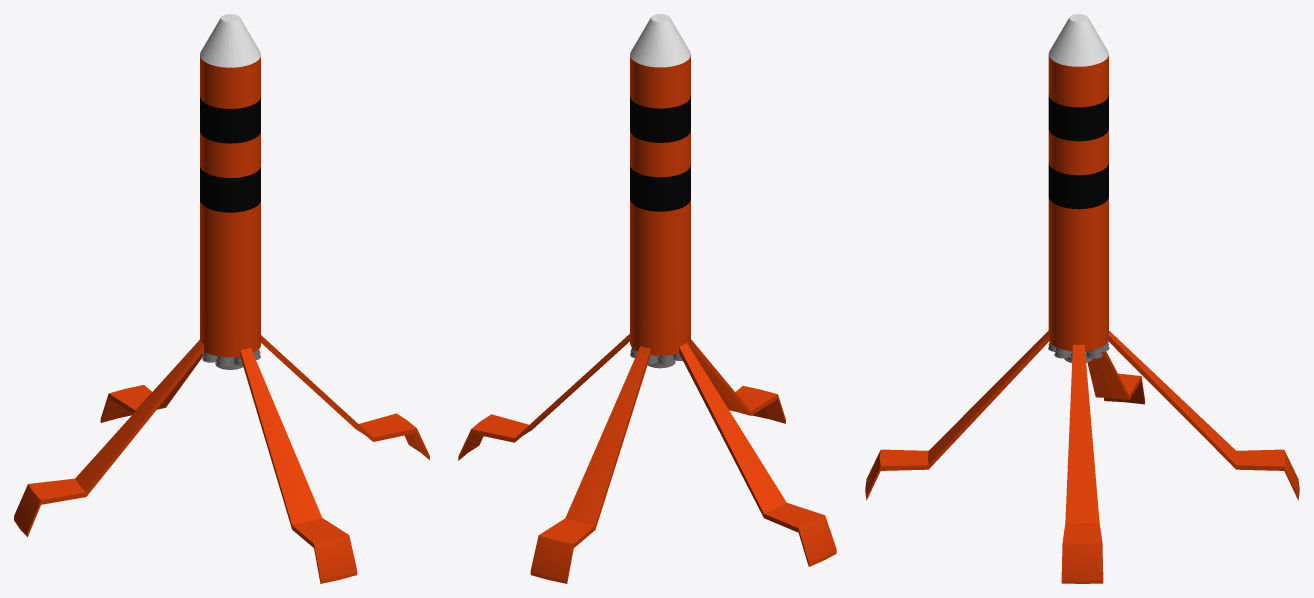
File: rocket5.fbx
3 views of the same model, side by side, from view 1: azimuth 30°, elevation 25°; view 2: azimuth 150°, elevation 25°; view 3: azimuth 270°, elevation 25° (orthographic).
Parts seen in each view (by area): view 1: Circle, Circle.010, Circle.001; view 2: Circle, Circle.010, Circle.001; view 3: Circle, Circle.010, Circle.001.
Part boxes in pixels (<box>): Circle: <box>14,56,429,583</box>; Circle.010: <box>75,98,322,525</box>; Circle.001: <box>200,14,260,67</box>; Circle: <box>458,55,836,583</box>; Circle.010: <box>565,96,786,525</box>; Circle.001: <box>630,14,690,67</box>; Circle: <box>865,55,1299,583</box>; Circle.010: <box>927,95,1237,523</box>; Circle.001: <box>1048,14,1108,66</box>.
Size of the model in its own units: 1437 by 1737 by 1441.
